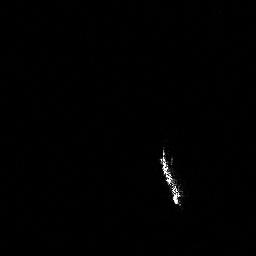ship: (155, 144, 187, 210)
